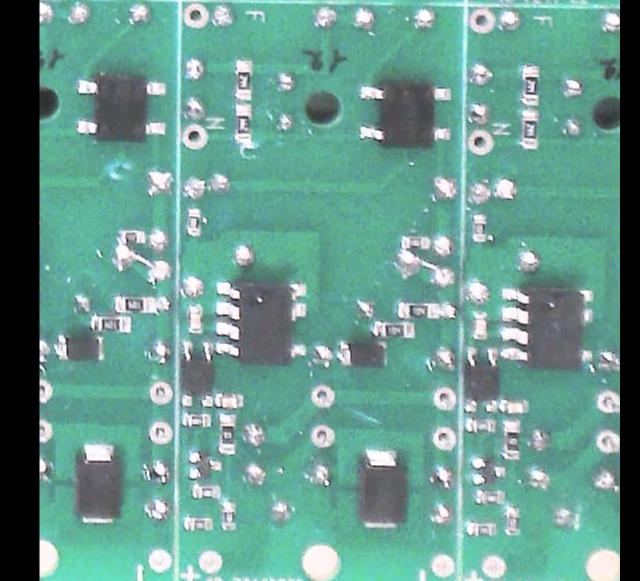chip-capacitor: (185, 302, 203, 335), (498, 397, 530, 415), (212, 392, 244, 409), (472, 309, 488, 340)
chip-resistor: (232, 102, 255, 146), (232, 57, 255, 100), (216, 412, 238, 454), (371, 318, 417, 338), (519, 108, 541, 149), (519, 64, 541, 105), (114, 294, 158, 314), (396, 301, 440, 320), (500, 421, 520, 461), (91, 314, 129, 333), (184, 205, 203, 237), (470, 211, 488, 244), (465, 415, 496, 434), (189, 484, 223, 501), (219, 500, 237, 532), (182, 516, 214, 533), (400, 234, 432, 251), (474, 489, 506, 506), (180, 412, 213, 428), (503, 505, 520, 535), (465, 522, 497, 537), (119, 229, 146, 245)
diode: (353, 448, 407, 530), (72, 440, 122, 525), (54, 334, 106, 364), (337, 339, 390, 367)
ic: (499, 283, 595, 370), (214, 276, 308, 364), (73, 71, 169, 145), (355, 81, 454, 150), (462, 348, 500, 416), (179, 340, 215, 409)
transistor: (469, 455, 507, 487), (186, 450, 222, 480)
